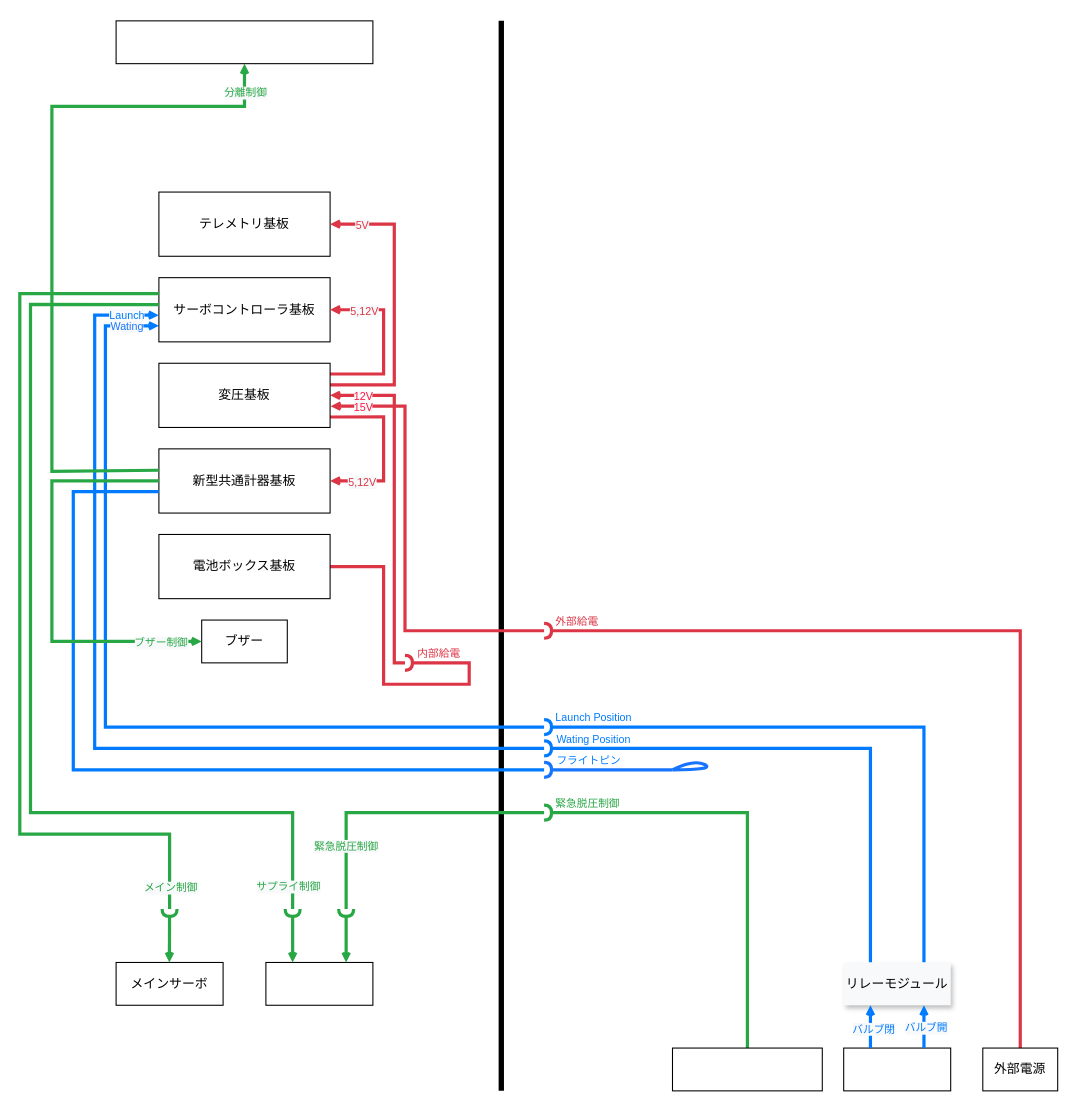
Some shapes in this 1076 by 1113 pixel diagram are drawn without their labels. Here are the shapes that lost their labels. From the top down, the centre of each, then its label:
At (244,42): "不知火".
At (319,983): "サプライサーボ".
At (746,1069): "緊急脱圧指令ユニット".
At (897,1069): "GSE".
